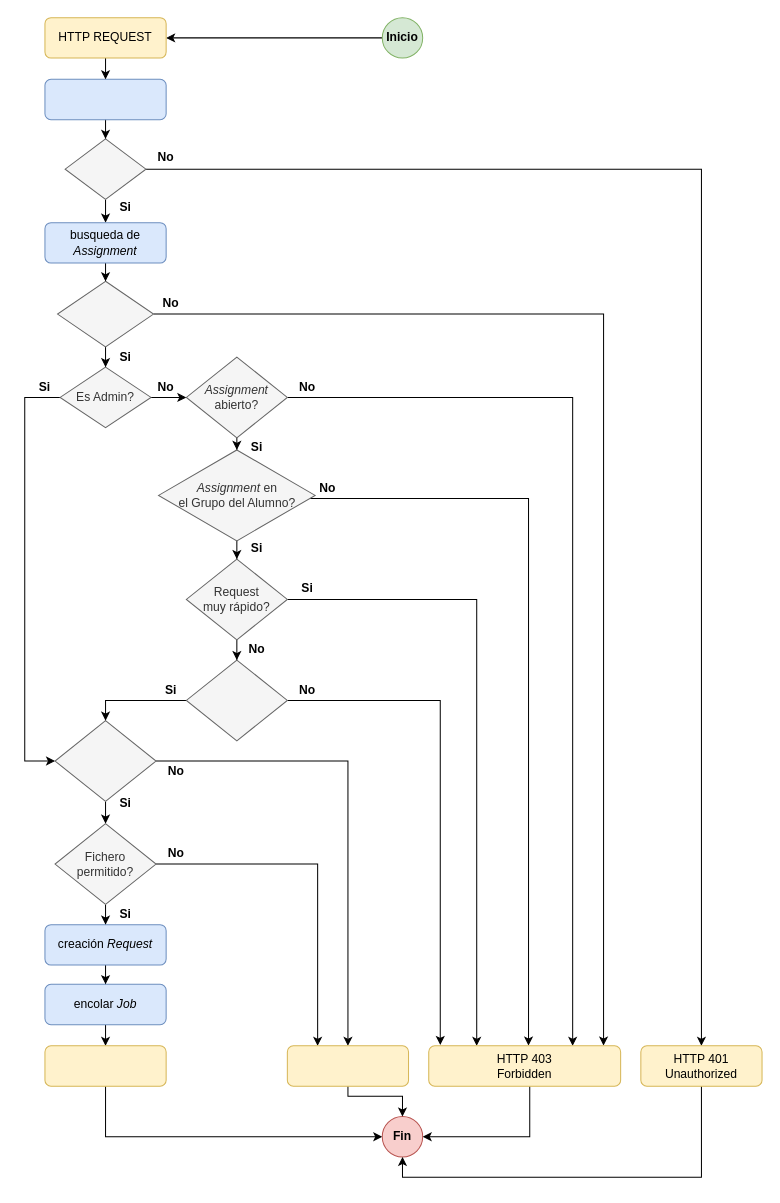
The diagram is 780 pixels wide and 1203 high, and some of its shapes have lost their labels. The shapes that lost their labels are listed below. From the top down, each one's centre as x and y in pixels, then its label:
At pixel 105 99: "Auth Usuario".
At pixel 105 168: "Auth OK?".
At pixel 105 313: "Assignment existe?".
At pixel 236 700: "Quota disponible?".
At pixel 105 760: "Existe Fichero?".
At pixel 105 1065: "HTTP 201 Created".
At pixel 347 1065: "HTTP 400 Bad Request".
